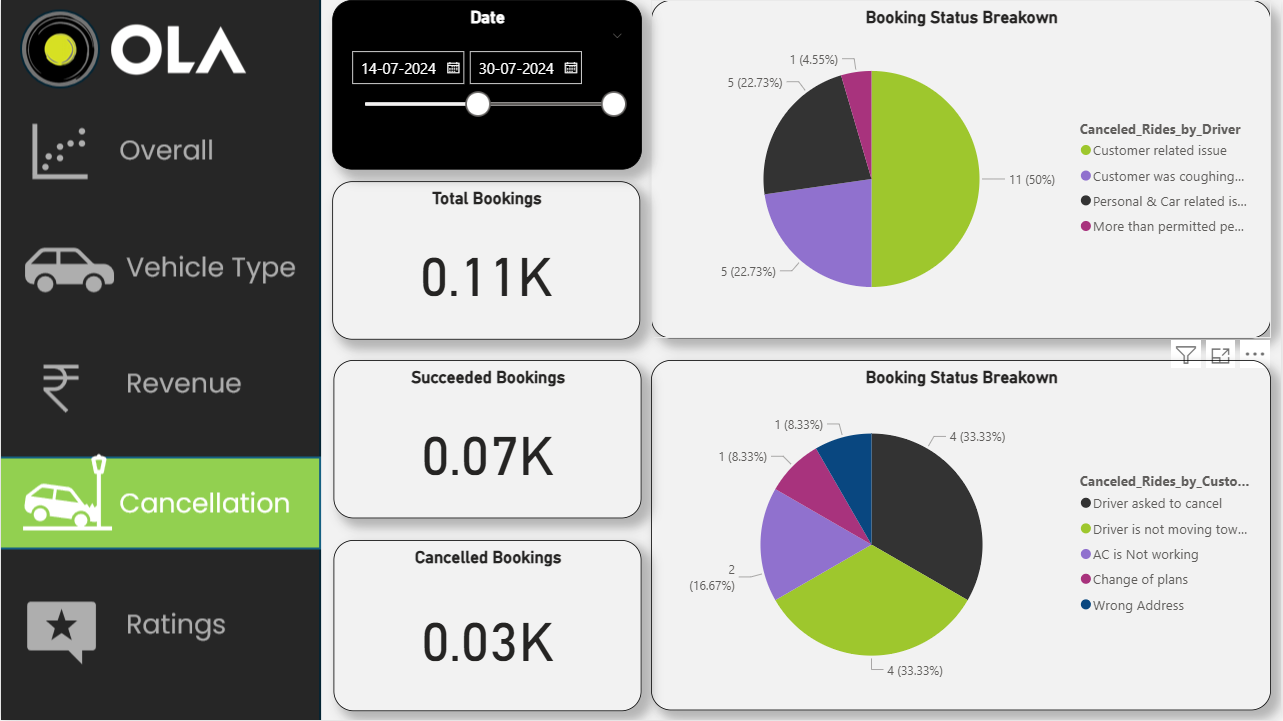

What the dashboard file says about the page in this screenshot:
{"tool":"powerbi","page":{"name":"Cancellation","canvas":[1280,720],"ordinal":3},"visuals":[{"type":"actionButton","box":[0,107.4,320.9,94.1],"z":0},{"type":"actionButton","box":[0,219.6,320.9,94.1],"z":1000},{"type":"actionButton","box":[0,339,320.9,94.1],"z":2000},{"type":"actionButton","box":[0,446.4,320.9,94.1],"z":3000},{"type":"actionButton","box":[0,582.7,320.9,94.1],"z":4000},{"type":"pieChart","title":"Booking Status Breakown","fields":{"Category":["Bookings.Canceled_Rides_by_Driver"],"Y":["CountNonNull(Bookings.Canceled_Rides_by_Driver)"]},"box":[650,0,620,338.8],"z":5000},{"type":"pieChart","title":"Booking Status Breakown","fields":{"Category":["Bookings.Canceled_Rides_by_Customer"],"Y":["Count(Bookings.Booking_Value)"]},"box":[650,360,620,350],"z":6000},{"type":"slicer","title":"Date","fields":{"Values":["Bookings.Date"]},"box":[330.7,0,309.3,169.6],"z":7000},{"type":"card","title":"Total Bookings","fields":{"Values":["CountNonNull(Bookings.Booking_ID)"]},"box":[330.7,181,307.9,158.2],"z":8000},{"type":"card","title":"Cancelled Bookings","fields":{"Values":["CountNonNull(Bookings.Booking_ID)"]},"box":[332.1,540.2,307.9,171],"z":9000},{"type":"card","title":"Succeeded Bookings","fields":{"Values":["CountNonNull(Bookings.Booking_ID)"]},"box":[332.1,360.6,307.9,158.2],"z":10000}]}

Visuals, with their boxes on the page's 1280x720 design canvas (x1, y1, x2, y2). These are canvas units, not pixel positions in the 1283x721 screenshot, which may show the page scaled, cropped or inside an application window:
actionButton: Rect(0, 107, 321, 202)
actionButton: Rect(0, 220, 321, 314)
actionButton: Rect(0, 339, 321, 433)
actionButton: Rect(0, 446, 321, 540)
actionButton: Rect(0, 583, 321, 677)
"Booking Status Breakown" pieChart: Rect(650, 0, 1270, 339)
"Booking Status Breakown" pieChart: Rect(650, 360, 1270, 710)
"Date" slicer: Rect(331, 0, 640, 170)
"Total Bookings" card: Rect(331, 181, 639, 339)
"Cancelled Bookings" card: Rect(332, 540, 640, 711)
"Succeeded Bookings" card: Rect(332, 361, 640, 519)
